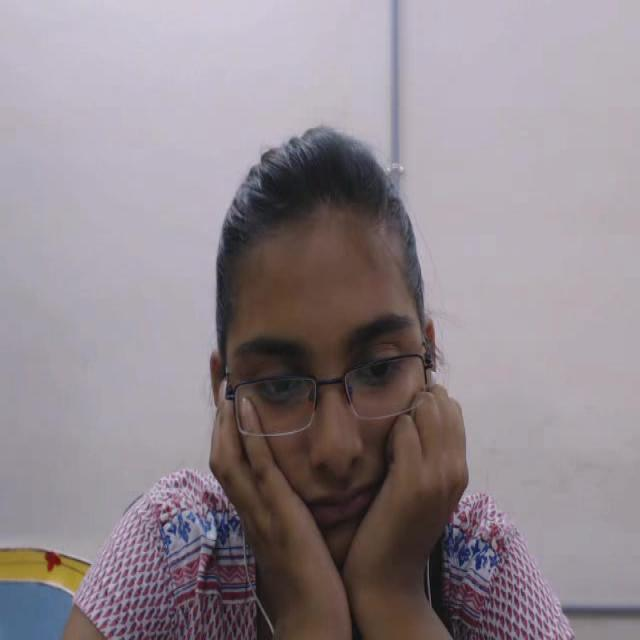Bored: (182, 99, 476, 592)
